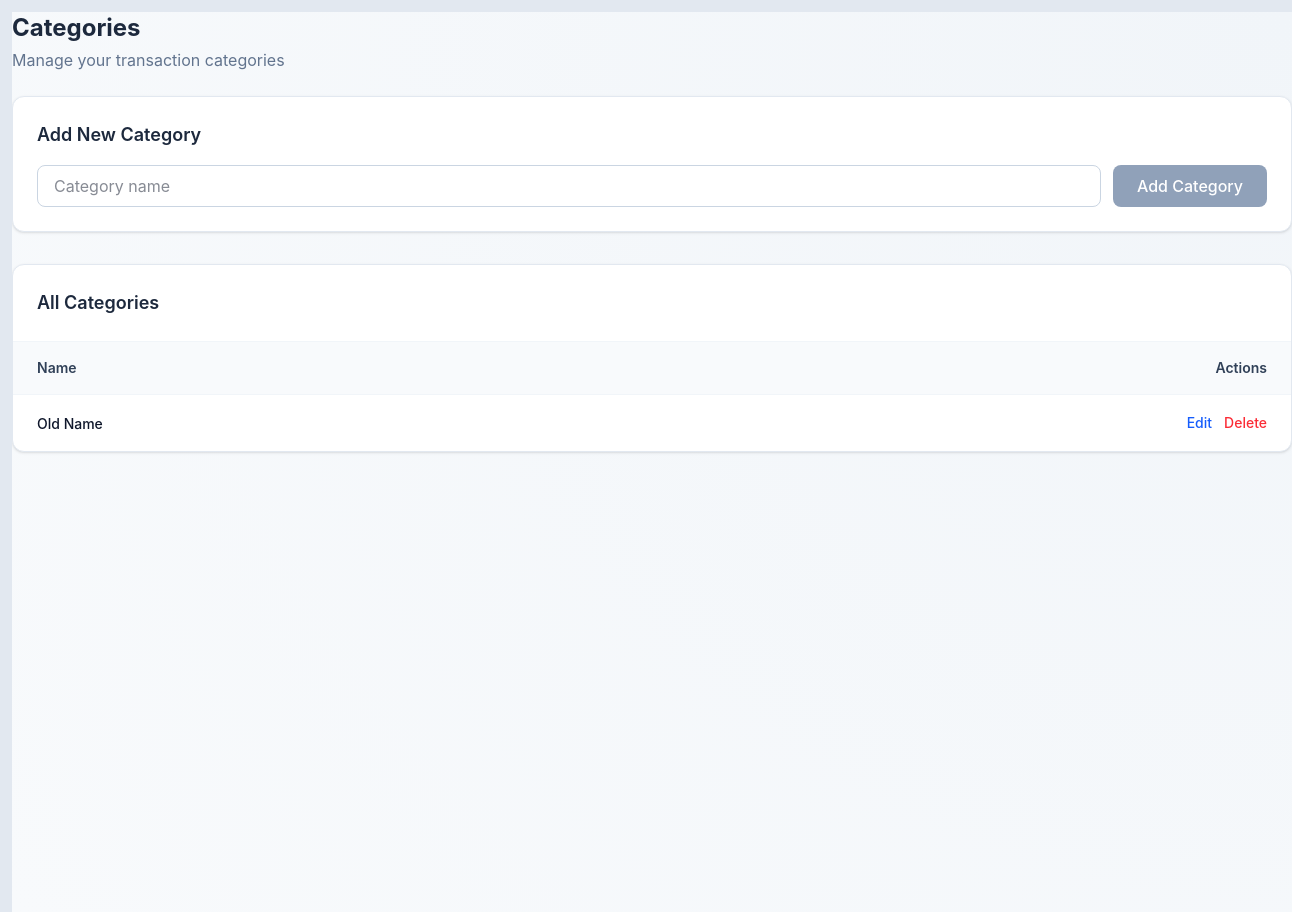
Test case: Categories Component › allows editing a category name
The image size is (1292, 912).
Expected: the text "Old Name" is shown, [37,415,103,432]
// Click Edit button
Click the button "Edit" at coordinates (1199, 423), box [1187,413,1212,433]
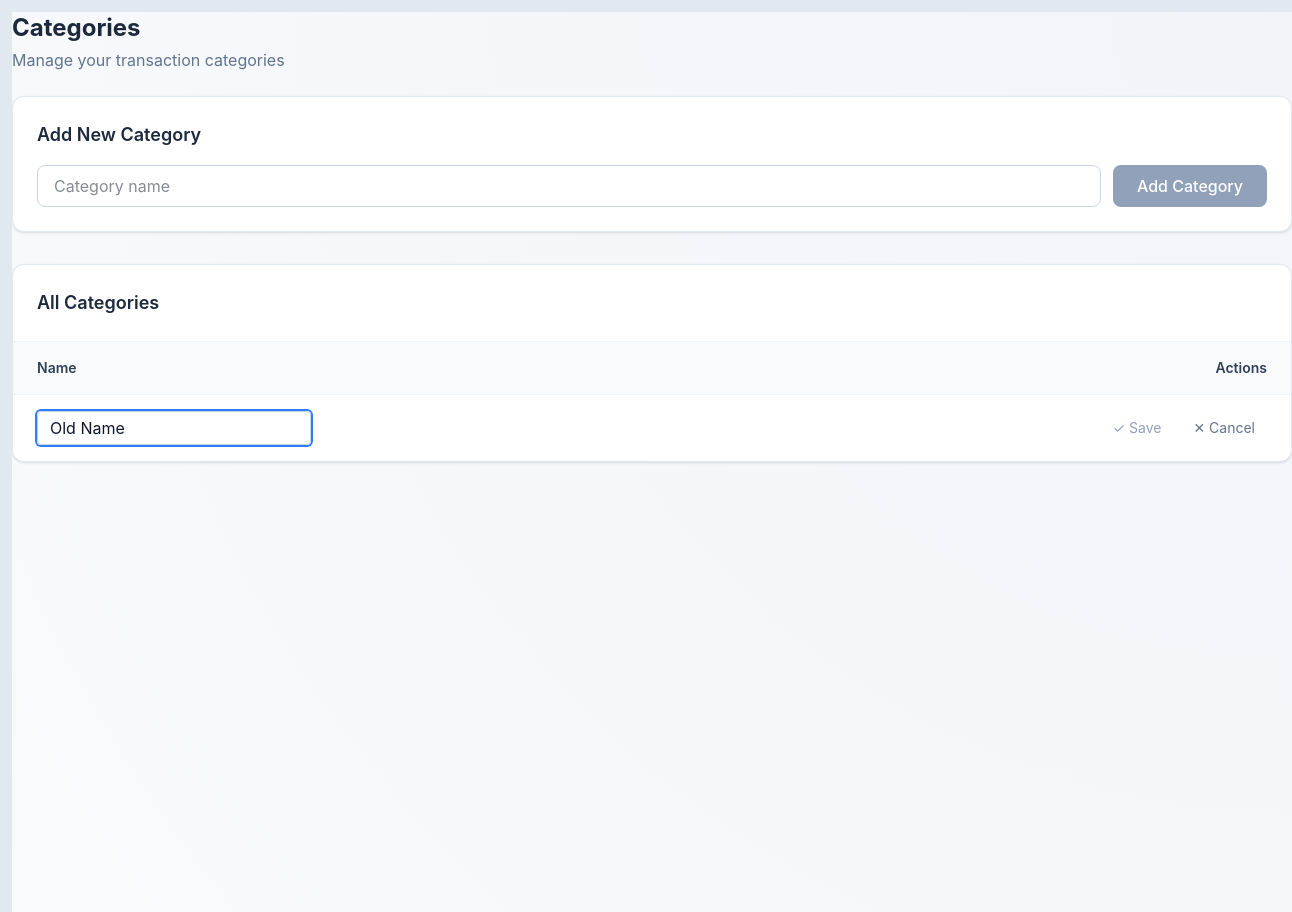
// Find the input and change the value
Replace the text in the field showing "Old Name" with "New Name" at coordinates (174, 428), box [37,411,311,445]
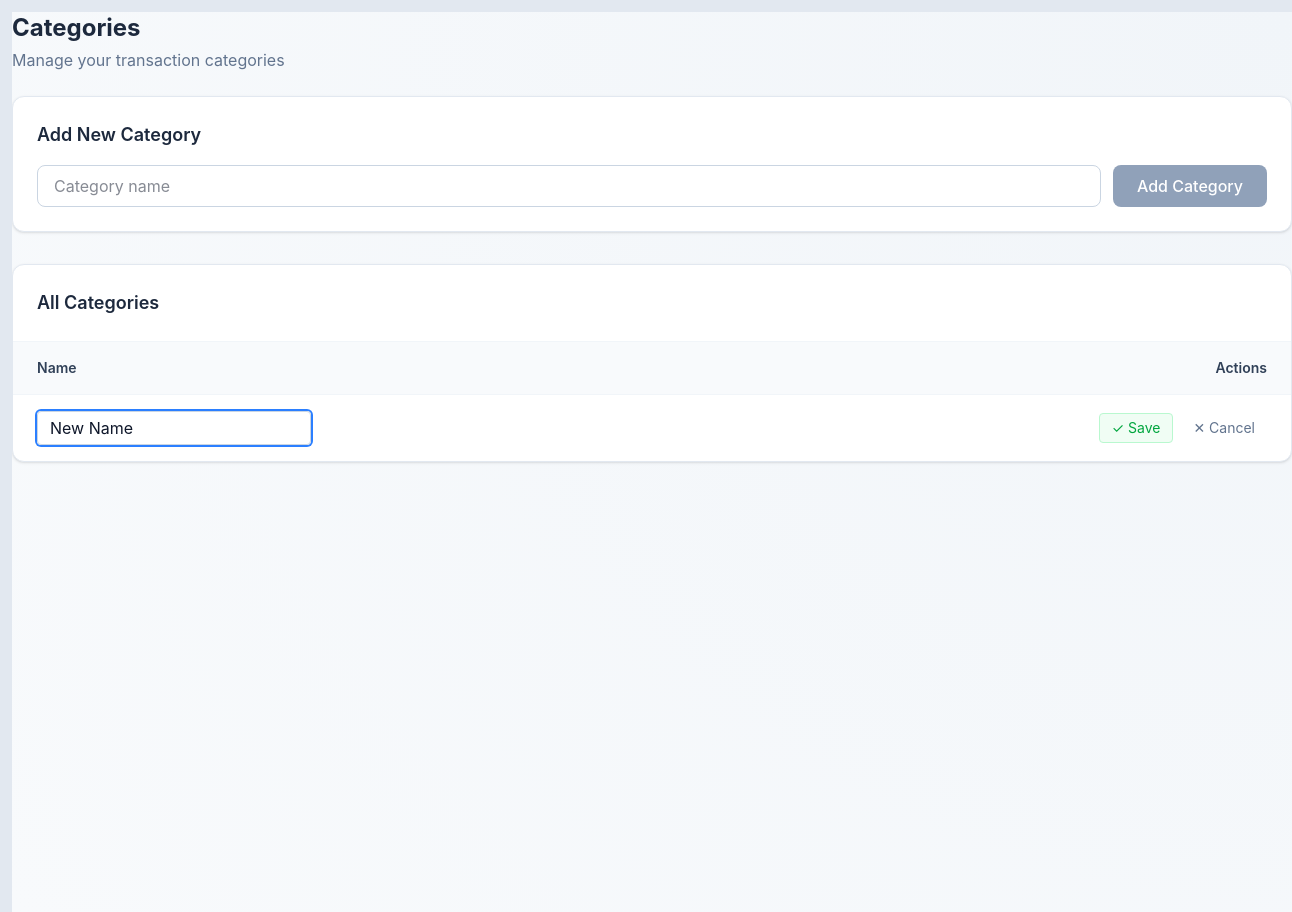
// Click Save
Click the button "✓ Save" at coordinates (1136, 428), box [1099,413,1173,443]
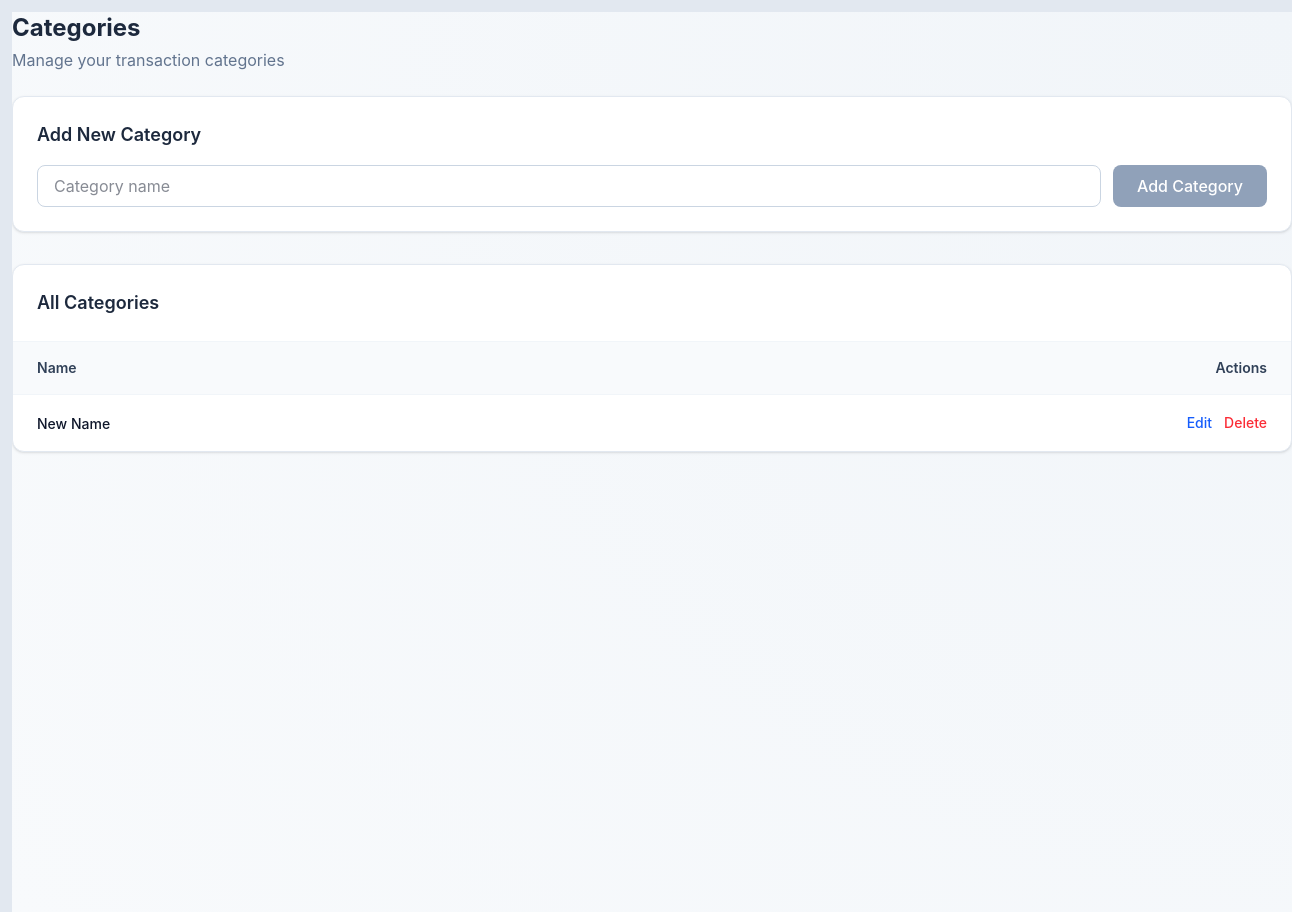
Expected: the text "Old Name" is not shown
Now the text "New Name" is shown, box [37,415,110,432]
